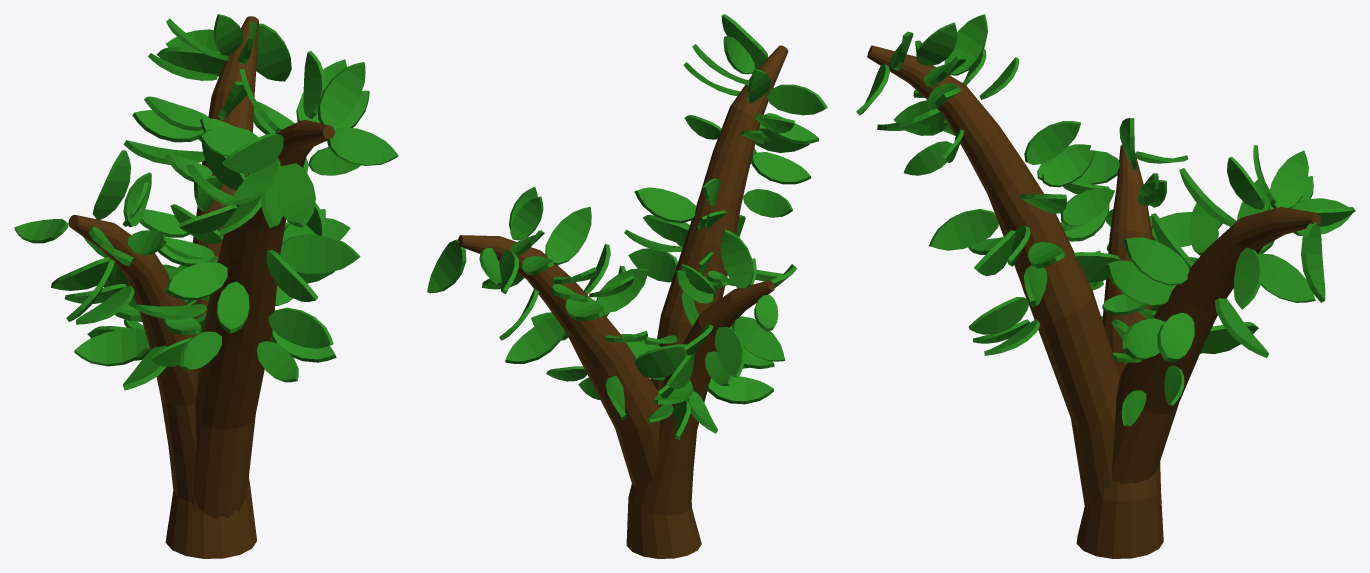
The model's file is Arbusto2Hoja1.fbx.
3 renders of one model, left to right at view 1: azimuth 30°, elevation 25°; view 2: azimuth 150°, elevation 25°; view 3: azimuth 270°, elevation 25°, orthographic. The views are drawn at different scales.
Visible parts, largest first — view 1: RamasArbusto2Hoja1; view 2: RamasArbusto2Hoja1; view 3: RamasArbusto2Hoja1.
Part boxes in pixels (left/top/right/bottom): RamasArbusto2Hoja1: left=14, top=14, right=398, bottom=558; RamasArbusto2Hoja1: left=427, top=14, right=827, bottom=558; RamasArbusto2Hoja1: left=856, top=14, right=1355, bottom=558.
Bounding box in the file's own units: 85.98 × 132 × 114.
